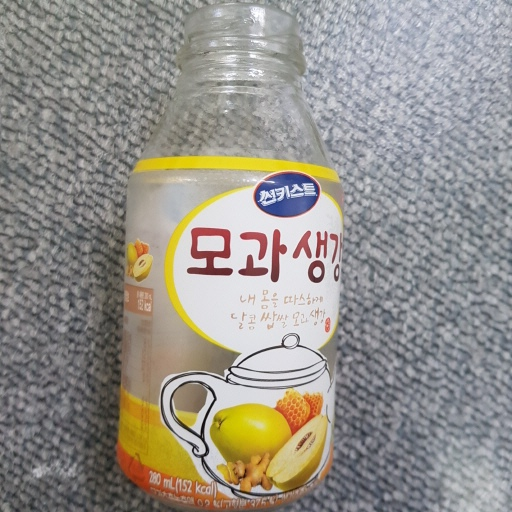Glass_4: (114, 4, 349, 512)
